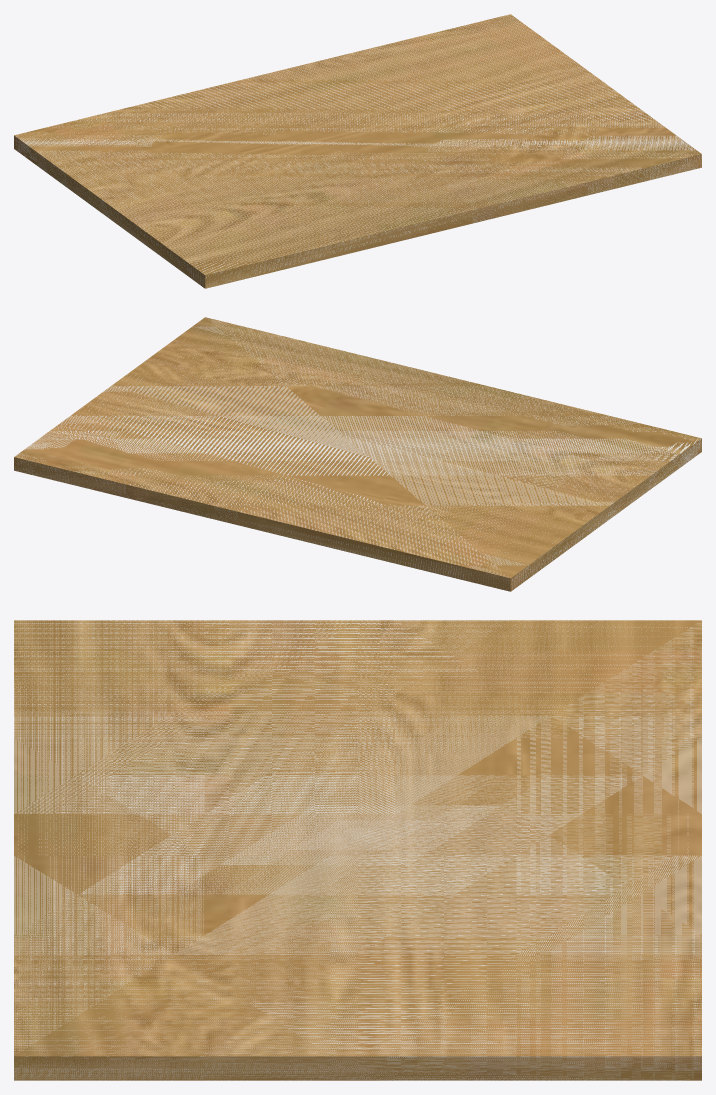
File: original-8.obj
3 views of the same model, one above another, from view 1: azimuth 30°, elevation 25°; view 2: azimuth 150°, elevation 25°; view 3: azimuth 270°, elevation 25° (orthographic). The views are drawn at different scales.
Visible parts, largest first — view 1: Group9/mesh13/mesh13-geometry#mesh13-geometry; view 2: Group9/mesh13/mesh13-geometry#mesh13-geometry; view 3: Group9/mesh13/mesh13-geometry#mesh13-geometry.
Boxes of the visible parts, x1,y1,x2,y2 form: Group9/mesh13/mesh13-geometry#mesh13-geometry: (14,14,701,288); Group9/mesh13/mesh13-geometry#mesh13-geometry: (14,317,701,591); Group9/mesh13/mesh13-geometry#mesh13-geometry: (14,620,701,1080).
Size of the model in its own units: 0.9412 by 0.0294 by 0.6275.
